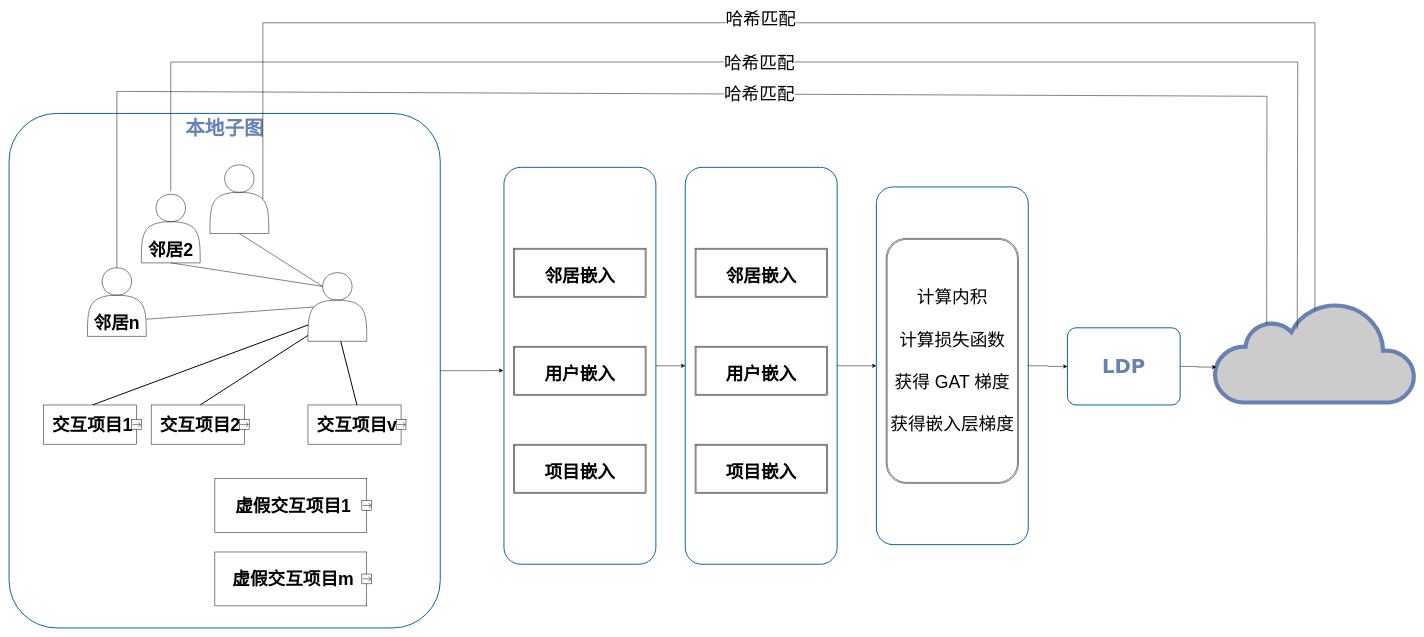
The diagram is 1424 pixels wide and 637 high, and some of its shapes have lost their labels. Here are the shapes that lost their labels. From the top down, the box of each, then its label:
(209, 164, 269, 233): 邻居1
(307, 272, 367, 341): 用户
(503, 167, 656, 564): 嵌入层
(685, 167, 837, 564): GAT
(876, 186, 1029, 545): 预测评分
(1214, 301, 1416, 403): 服务器
